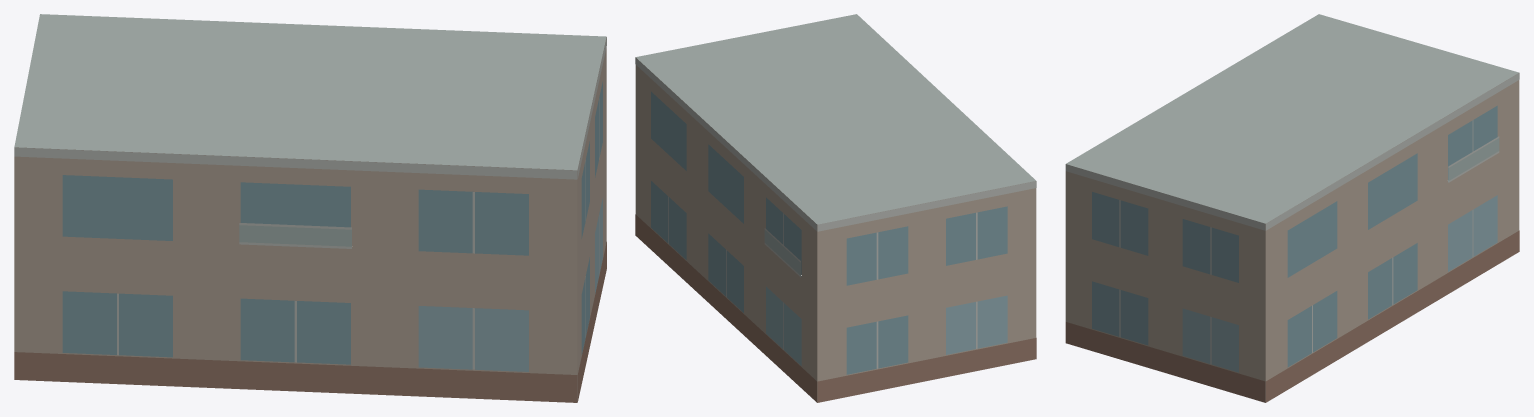
File: survey-upis-32714485.glb
3 renders of one model, left to right at view 1: azimuth 30°, elevation 25°; view 2: azimuth 150°, elevation 25°; view 3: azimuth 270°, elevation 25°, orthographic. The views are drawn at different scales.
Visible parts, largest first — view 1: survey-upis-32714485.tmp; view 2: survey-upis-32714485.tmp; view 3: survey-upis-32714485.tmp.
Part boxes in pixels (<box>): survey-upis-32714485.tmp: <box>14,14,606,402</box>; survey-upis-32714485.tmp: <box>635,14,1036,402</box>; survey-upis-32714485.tmp: <box>1065,14,1519,402</box>.
Bounding box in the file's own units: 15.32 × 6.1 × 14.01.
